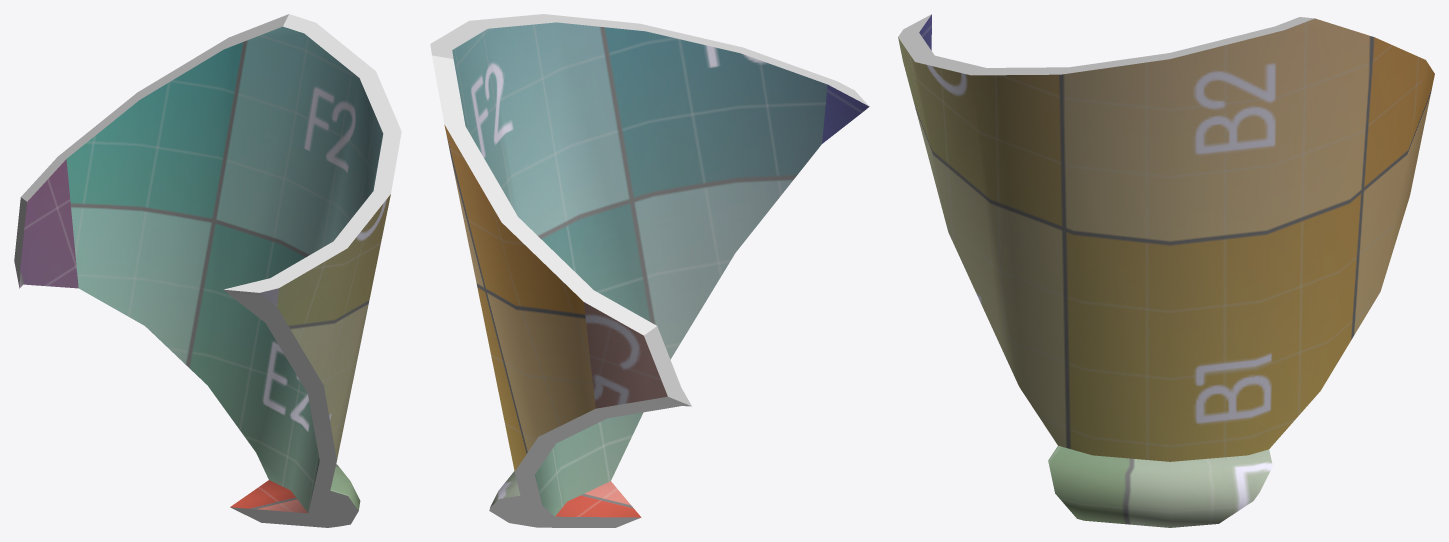
The model's file is MediumVase_SHAT_cell.fbx.
3 views of the same model, side by side, from view 1: azimuth 30°, elevation 25°; view 2: azimuth 150°, elevation 25°; view 3: azimuth 270°, elevation 25° (orthographic). The views are drawn at different scales.
Visible parts, largest first — view 1: MediumVase_SHAT_cell.013; view 2: MediumVase_SHAT_cell.013; view 3: MediumVase_SHAT_cell.013.
Part boxes in pixels (bbox=[...]): MediumVase_SHAT_cell.013: bbox=[14, 14, 401, 527]; MediumVase_SHAT_cell.013: bbox=[430, 14, 869, 527]; MediumVase_SHAT_cell.013: bbox=[898, 14, 1434, 527].
Bounding box in the file's own units: 0.6232 × 0.9458 × 0.8668.
Materials: 2 (1 with a texture image).
